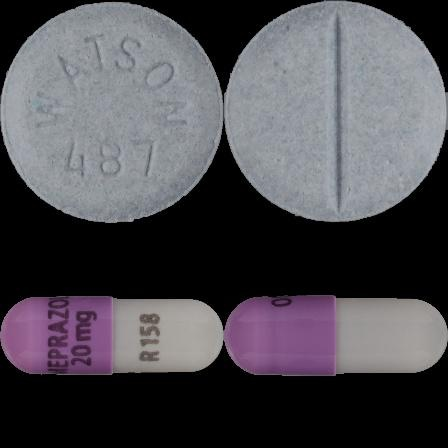21695-613: (0, 0, 224, 224)
